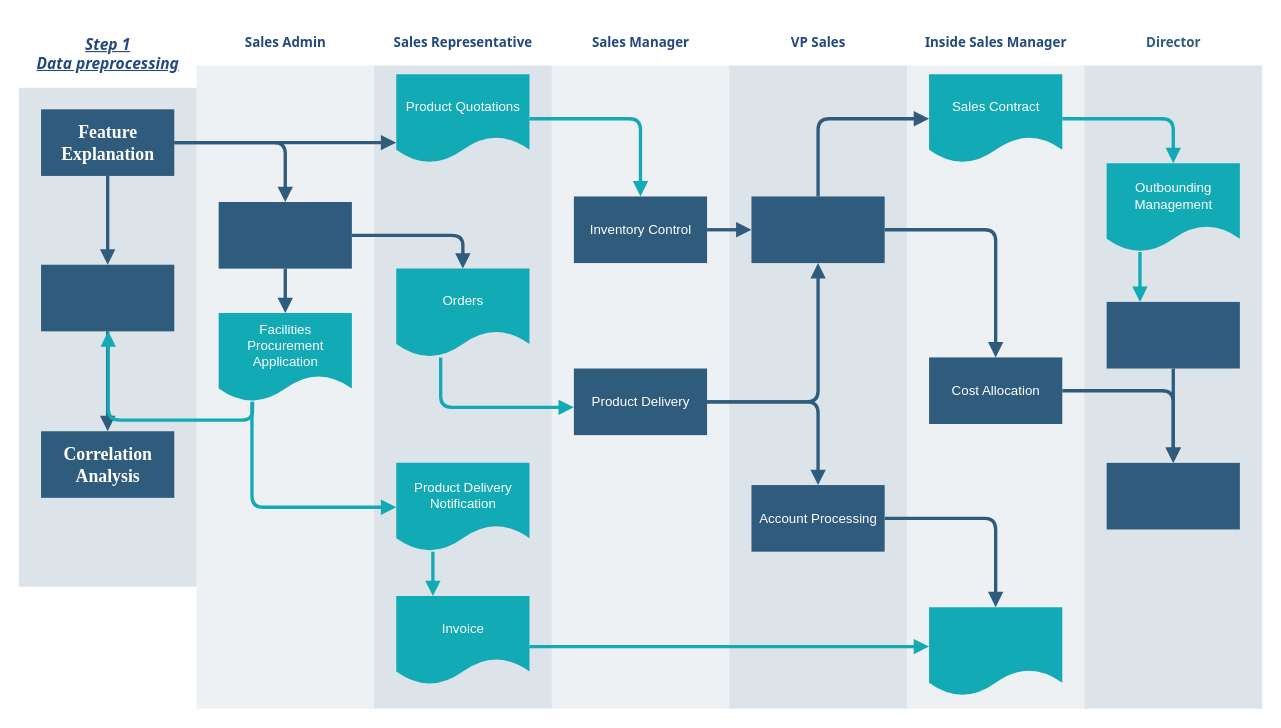
The diagram is 1281 pixels wide and 728 high, and some of its shapes have lost their labels. Here are the shapes that lost their labels. From the top down, the centre of each, then its label:
At [284,234]: "Material Requirements Planning Operation".
At [817,229]: "Outbound Accounting".
At [107,297]: "Model Comparison".
At [1172,334]: "Resources Allocation".
At [1172,495]: "Long Term Strategy".
At [995,651]: "Bills".
